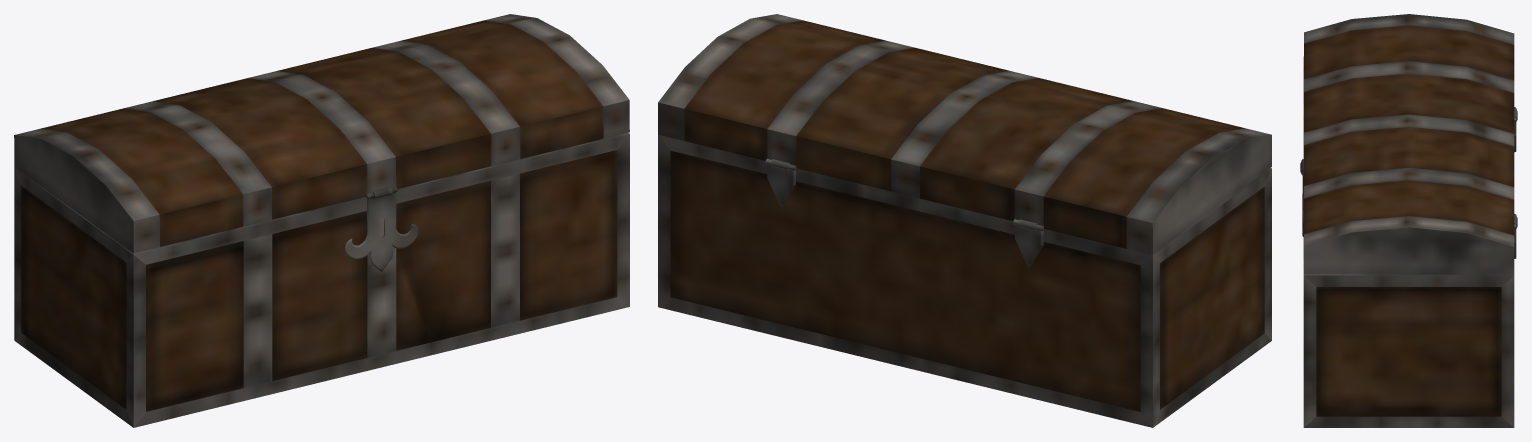
Rendered from Locked Container.fbx.
3 views of the same model, side by side, from view 1: azimuth 30°, elevation 25°; view 2: azimuth 150°, elevation 25°; view 3: azimuth 270°, elevation 25° (orthographic). The views are drawn at different scales.
Visible parts, largest first — view 1: Chest002, Chest_Cover001; view 2: Chest002, Chest_Cover001; view 3: Chest_Cover001, Chest002.
Part boxes in pixels (bbox=[...]): Chest002: bbox=[14, 133, 629, 427]; Chest_Cover001: bbox=[14, 14, 629, 271]; Chest002: bbox=[658, 134, 1271, 427]; Chest_Cover001: bbox=[658, 14, 1271, 255]; Chest_Cover001: bbox=[1300, 14, 1517, 275]; Chest002: bbox=[1303, 123, 1516, 427].
Bounding box in the file's own units: 120 × 52.61 × 51.7.
Materials: 1 (1 with a texture image).
